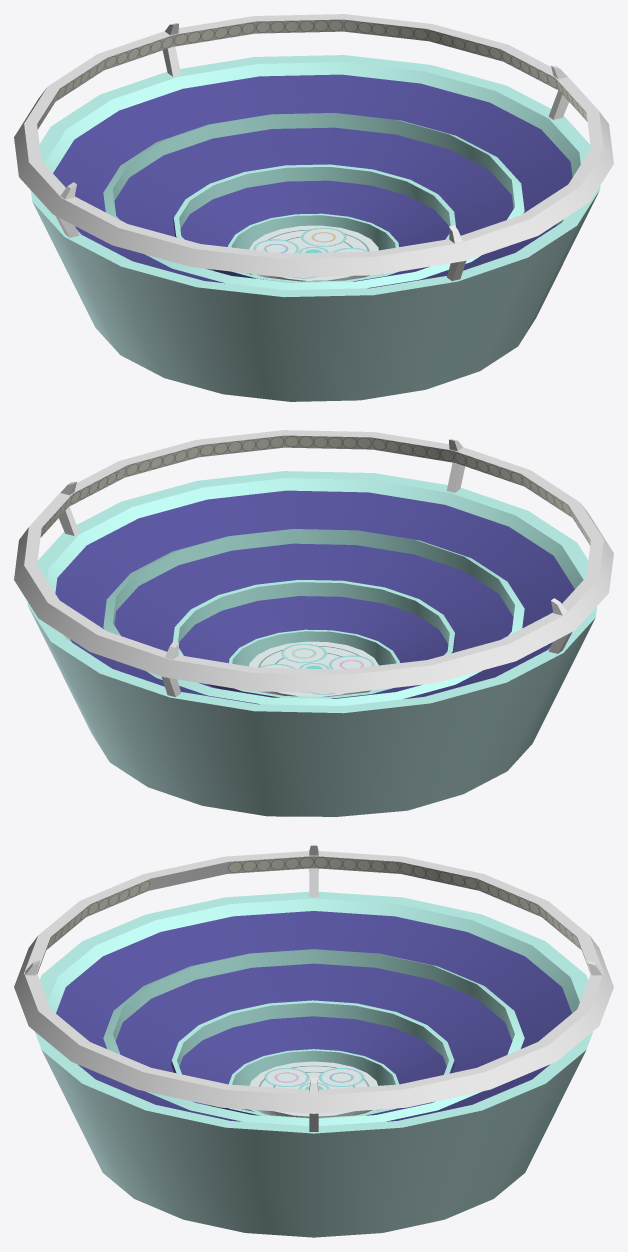
The model's file is stage.fbx.
3 renders of one model, top to bottom at view 1: azimuth 30°, elevation 25°; view 2: azimuth 150°, elevation 25°; view 3: azimuth 270°, elevation 25°, orthographic.
Parts seen in each view (by area): view 1: pPipe1, ring, pCylinder1, polySurface11; view 2: pPipe1, ring, pCylinder1, polySurface11; view 3: pPipe1, ring, pCylinder1, polySurface11.
Part boxes in pixels (x1=…): pPipe1: x1=31, y1=55, x2=600, y2=401; ring: x1=14, y1=14, x2=613, y2=277; pCylinder1: x1=249, y1=225, x2=378, y2=281; polySurface11: x1=55, y1=23, x2=568, y2=280; pPipe1: x1=27, y1=471, x2=596, y2=816; ring: x1=14, y1=430, x2=613, y2=693; pCylinder1: x1=249, y1=641, x2=378, y2=696; polySurface11: x1=59, y1=439, x2=572, y2=697; pPipe1: x1=34, y1=891, x2=593, y2=1237; ring: x1=14, y1=851, x2=613, y2=1113; pCylinder1: x1=249, y1=1061, x2=378, y2=1117; polySurface11: x1=25, y1=845, x2=602, y2=1131.
Size of the model in its own units: 2754 by 958 by 2754.
2 materials, 2 textured.
